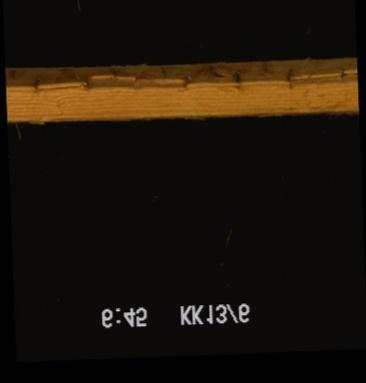wave: (5, 64, 356, 119)
